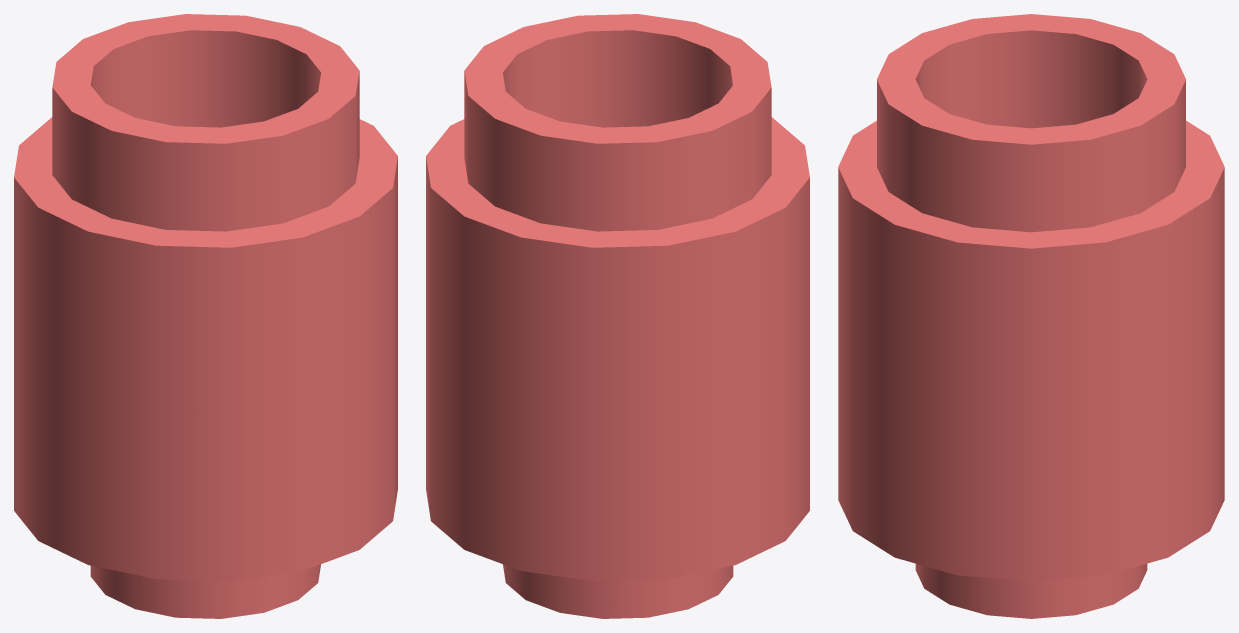
3 views of the same model, side by side, from view 1: azimuth 30°, elevation 25°; view 2: azimuth 150°, elevation 25°; view 3: azimuth 270°, elevation 25° (orthographic).
Parts seen in each view (by area): view 1: LDrawPart; view 2: LDrawPart; view 3: LDrawPart.
Part boxes in pixels (x1,y1,x2,y2): LDrawPart: (14,14,397,618); LDrawPart: (426,14,809,618); LDrawPart: (838,14,1224,618).
Bounding box in the file's own units: 0.14 × 0.196 × 0.14.
